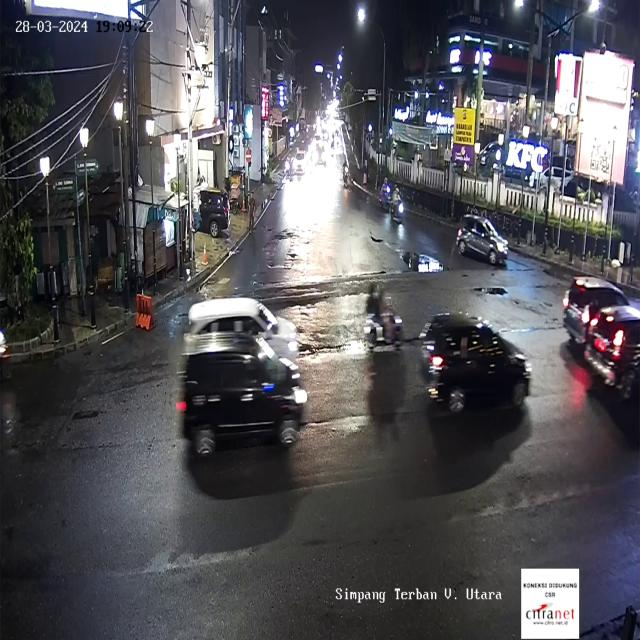car: (173, 332, 306, 460), (419, 304, 534, 415), (180, 299, 304, 388), (564, 277, 640, 349), (585, 301, 640, 398), (456, 216, 510, 267), (196, 191, 232, 238), (294, 150, 306, 177)
motorcycle: (361, 278, 406, 358), (380, 176, 392, 216), (391, 186, 404, 221), (342, 157, 350, 186)
